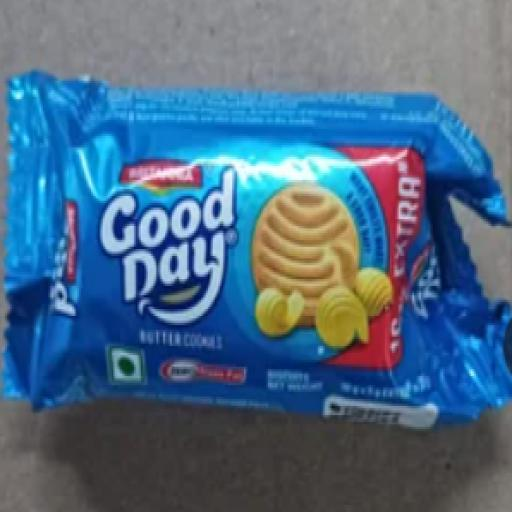goodday: (0, 71, 510, 429), (7, 74, 510, 427)
